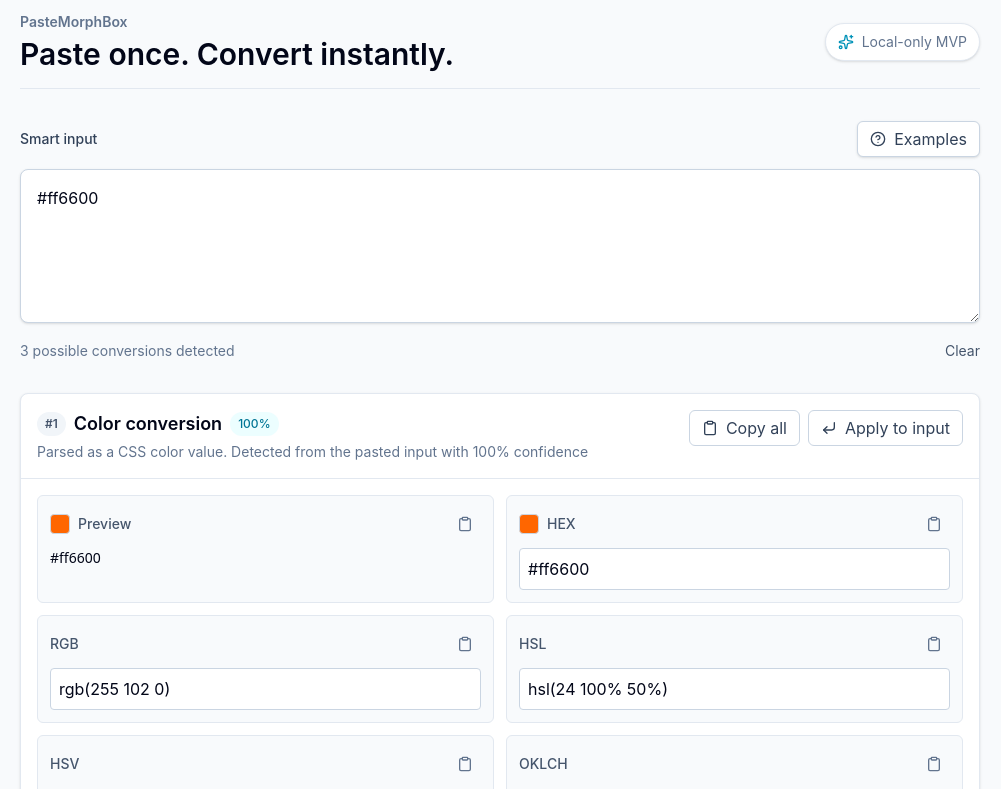
Test: App interactions › initializes from q search and clears stale URL state when editing
expect the heading "Color conversion" is shown: met, box x1=74 y1=410 x2=222 y2=438
Replace the text in the text box labelled "Smart input" with "1700000000": [500, 246] box x1=20 y1=169 x2=980 y2=323
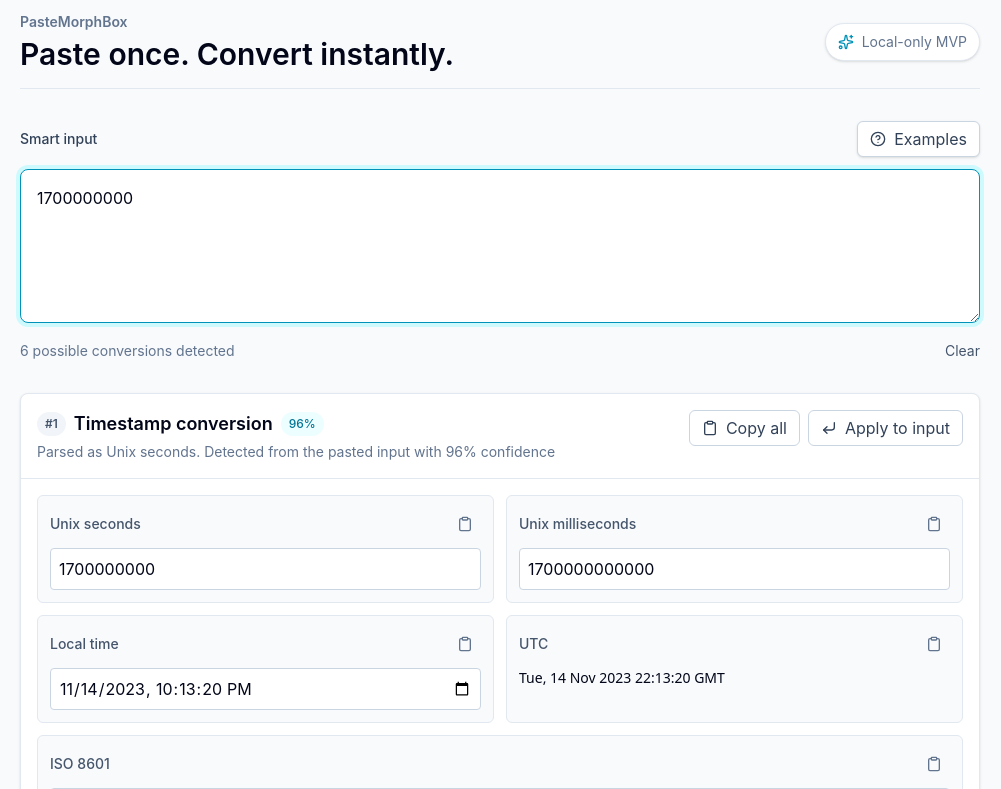
expect the heading "Timestamp conversion" is shown: met, box x1=74 y1=410 x2=273 y2=438
